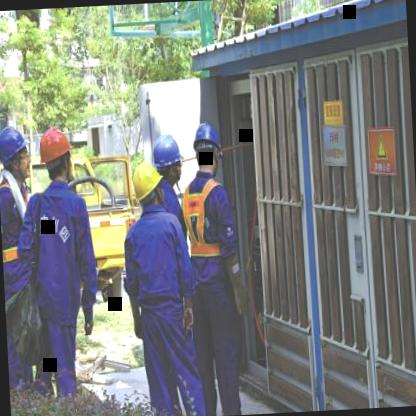helmet: (36, 121, 74, 188), (0, 116, 34, 181), (129, 156, 169, 208), (152, 130, 186, 188), (190, 119, 224, 176)
